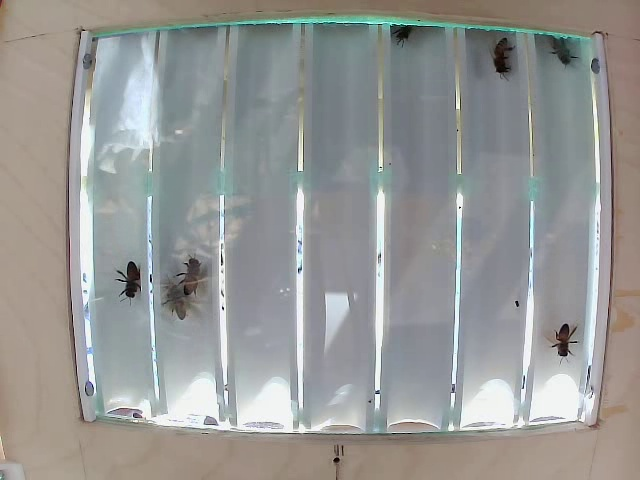bee: (545, 312, 591, 362), (542, 31, 575, 71), (490, 32, 516, 81), (110, 260, 152, 290), (392, 17, 421, 53), (166, 279, 189, 320), (180, 256, 213, 283)
